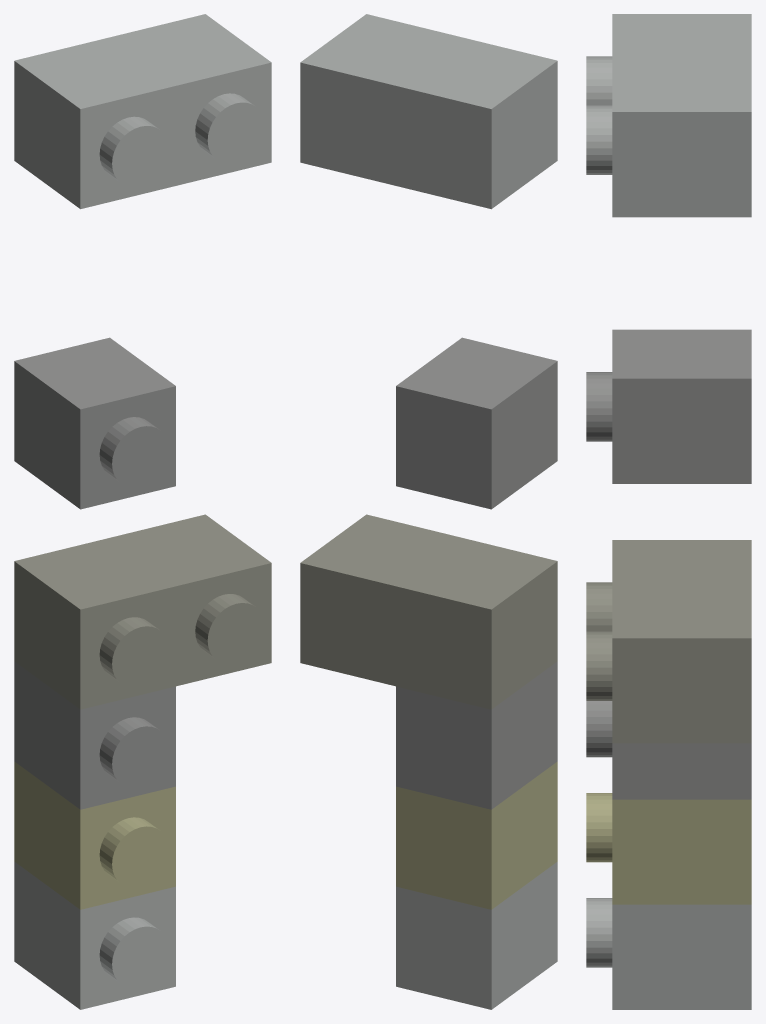
File: current.glb
3 renders of one model, left to right at view 1: azimuth 30°, elevation 25°; view 2: azimuth 150°, elevation 25°; view 3: azimuth 270°, elevation 25°, orthographic. The views are drawn at different scales.
Parts seen in each view (by area): view 1: world; view 2: world; view 3: world.
Part boxes in pixels (x1=…): world: x1=14, y1=14, x2=271, y2=1009; world: x1=300, y1=14, x2=557, y2=1009; world: x1=586, y1=14, x2=751, y2=1009.
Size of the model in its own units: 16 by 72 by 11.4.
